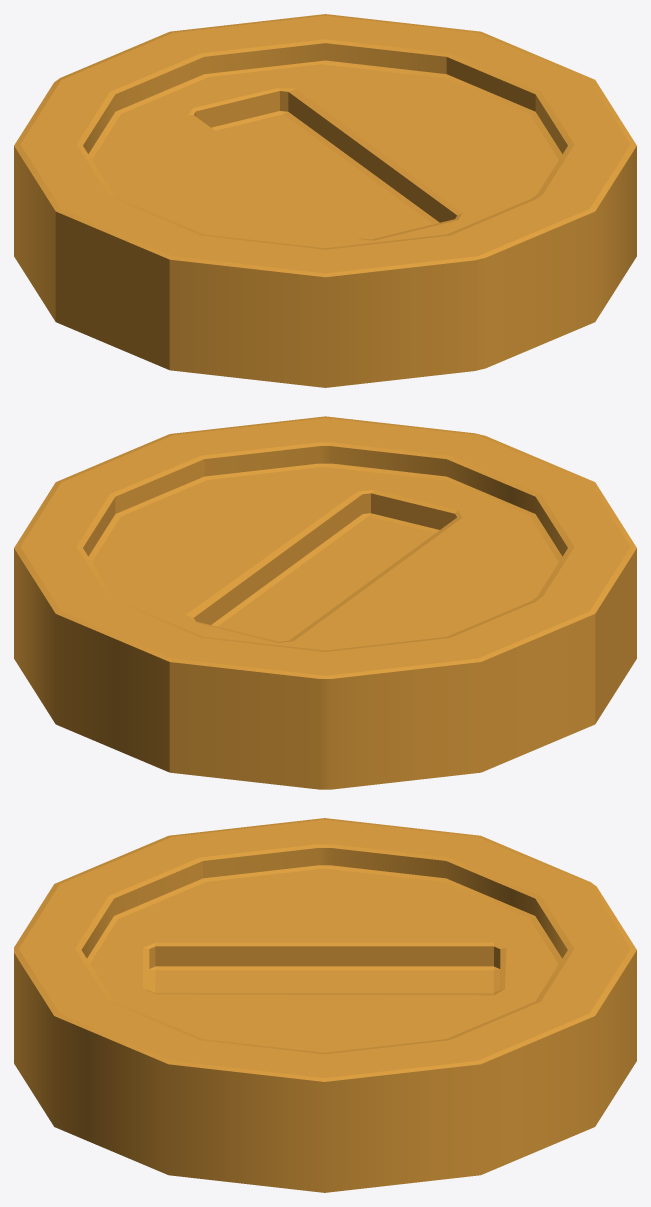
File: 1AN Artefak Coin.fbx
3 renders of one model, top to bottom at view 1: azimuth 30°, elevation 25°; view 2: azimuth 150°, elevation 25°; view 3: azimuth 270°, elevation 25°, orthographic.
Visible parts, largest first — view 1: Coin.002; view 2: Coin.002; view 3: Coin.002.
Boxes of the visible parts, left/top/right/bottom form: Coin.002: left=14, top=14, right=636, bottom=387; Coin.002: left=14, top=416, right=636, bottom=789; Coin.002: left=14, top=818, right=636, bottom=1192.
Bounding box in the file's own units: 200 × 40 × 199.
